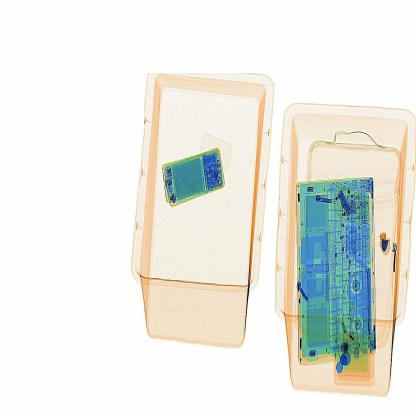wrench: (375, 224, 398, 260)
